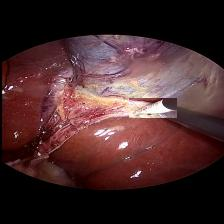Hook: (128, 98, 176, 118)
